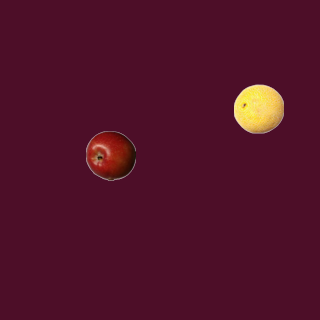Apple Braeburn: (85, 130, 135, 180)
Cantaloupe 1: (233, 83, 283, 133)
